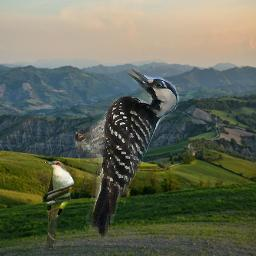Cuckoo: (44, 160, 75, 251)
Woodpecker: (75, 69, 180, 239)
